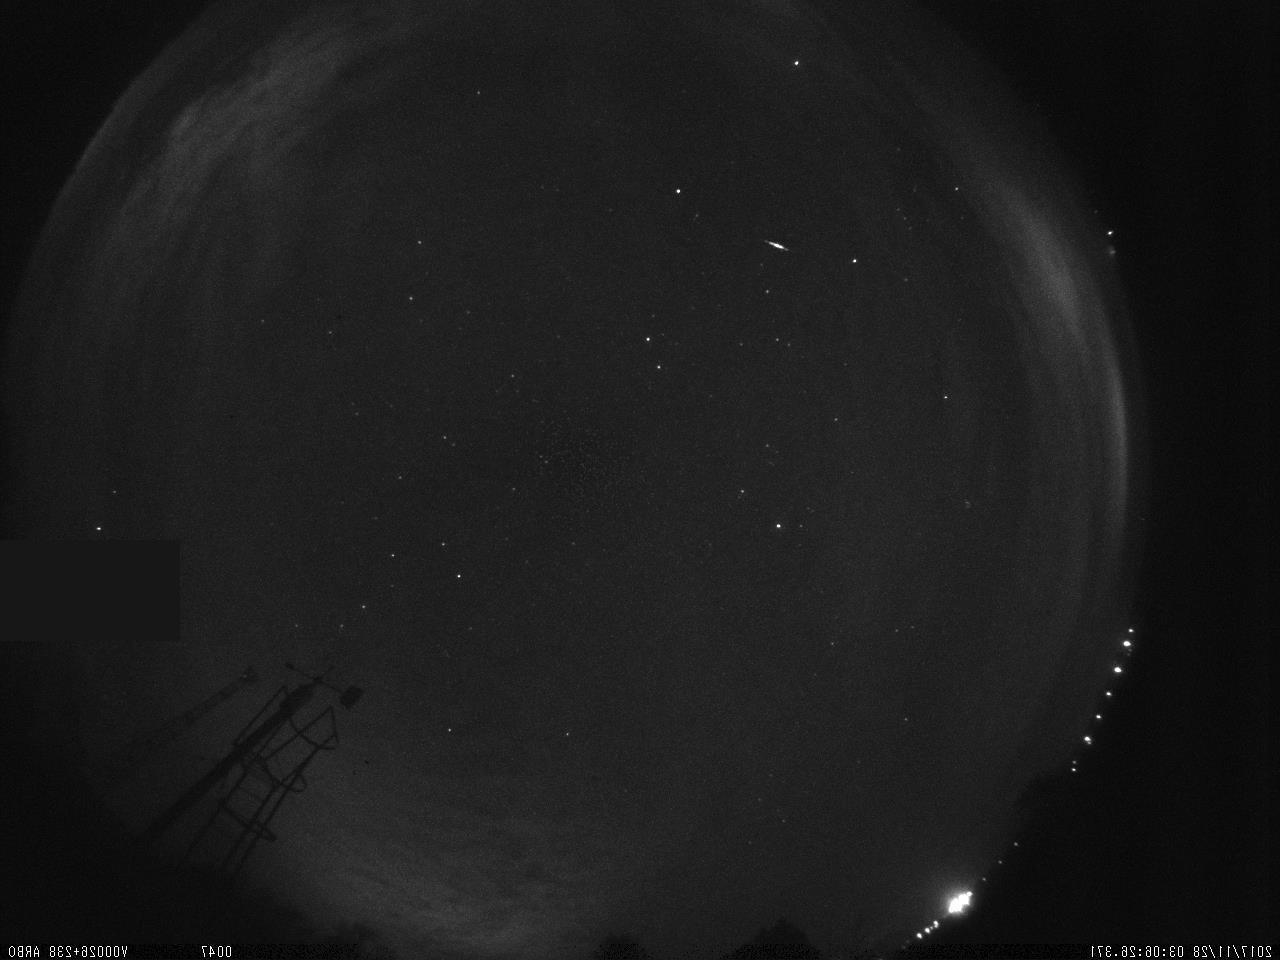meteor: (762, 235, 798, 258)
